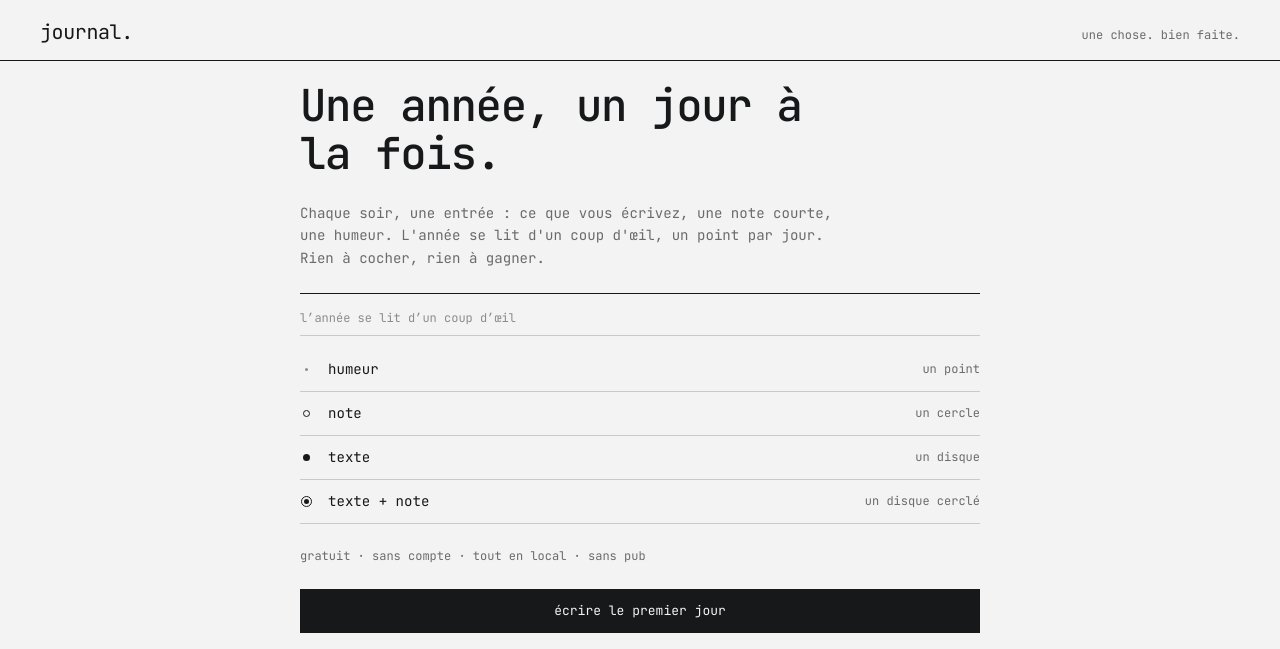
JournalApp › refuse d’enregistrer une entrée vide plutôt que d’écrire une coquille
Click the button "écrire le premier jour" at (640, 611), box x1=300 y1=589 x2=980 y2=633
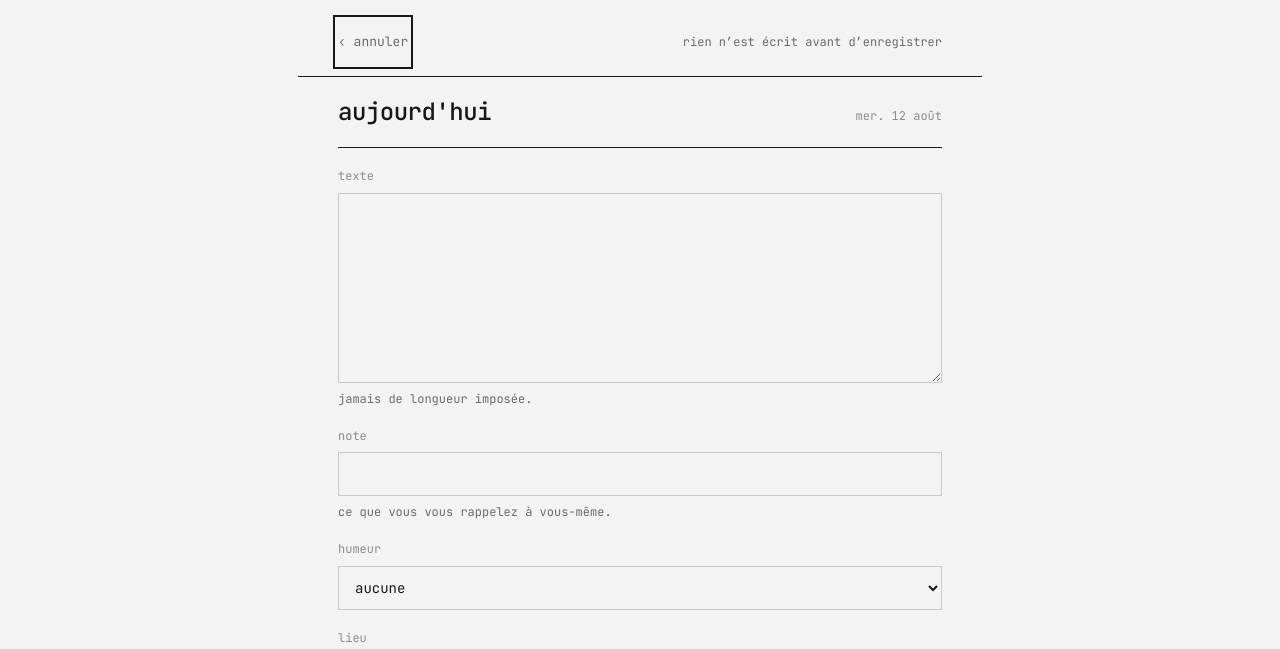
Type "un" into the text box labelled "texte" at (640, 288), box x1=338 y1=193 x2=942 y2=383
(page scrolled)
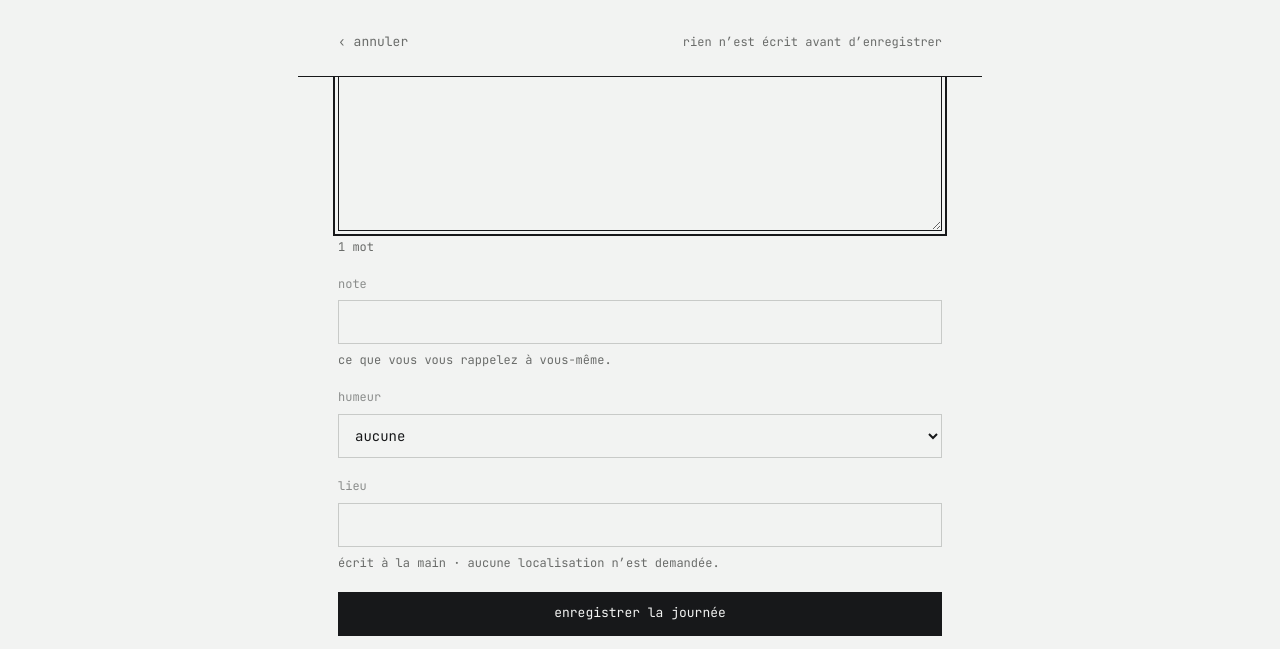
Expected: the button "enregistrer la journée" is enabled, x1=338 y1=592 x2=942 y2=636
